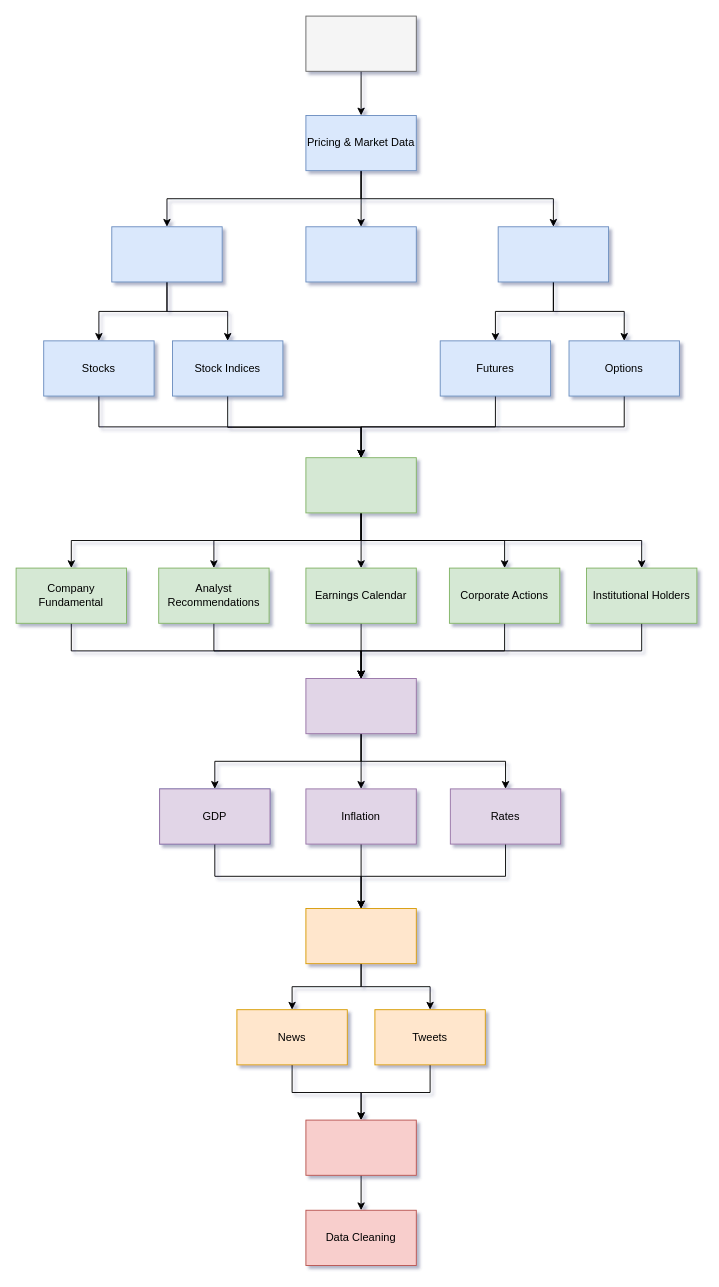
Image size: 719x1287. Some labels were removed from this diagram. The centre of each missing label's shape, as x and y in pixels:
Company Data: [360,485]
Data Quality Checks: [360,1147]
Derivatives: [553,254]
Economic Data: [360,706]
Equities: [166,254]
FX & Crypto: [360,254]
Introduction: [360,43]
Unstructured Data: [360,936]
